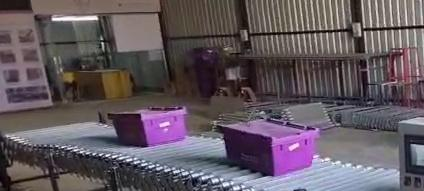box: (221, 120, 318, 175), (108, 107, 186, 146)
